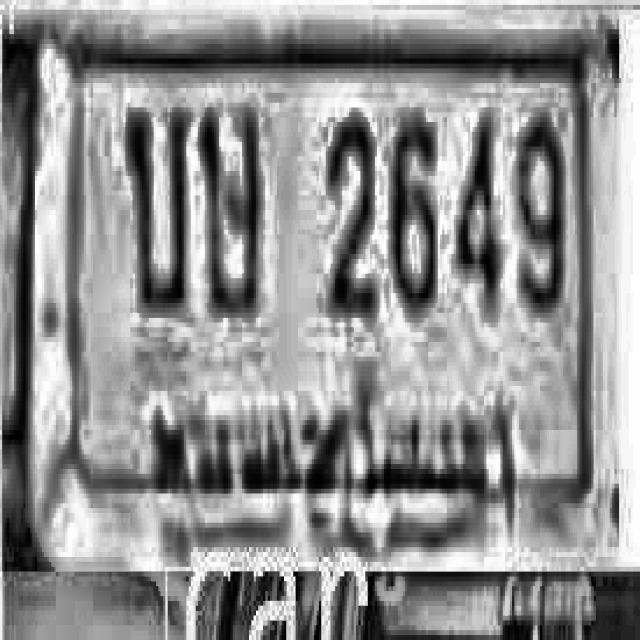license-plate: (30, 0, 618, 570)
